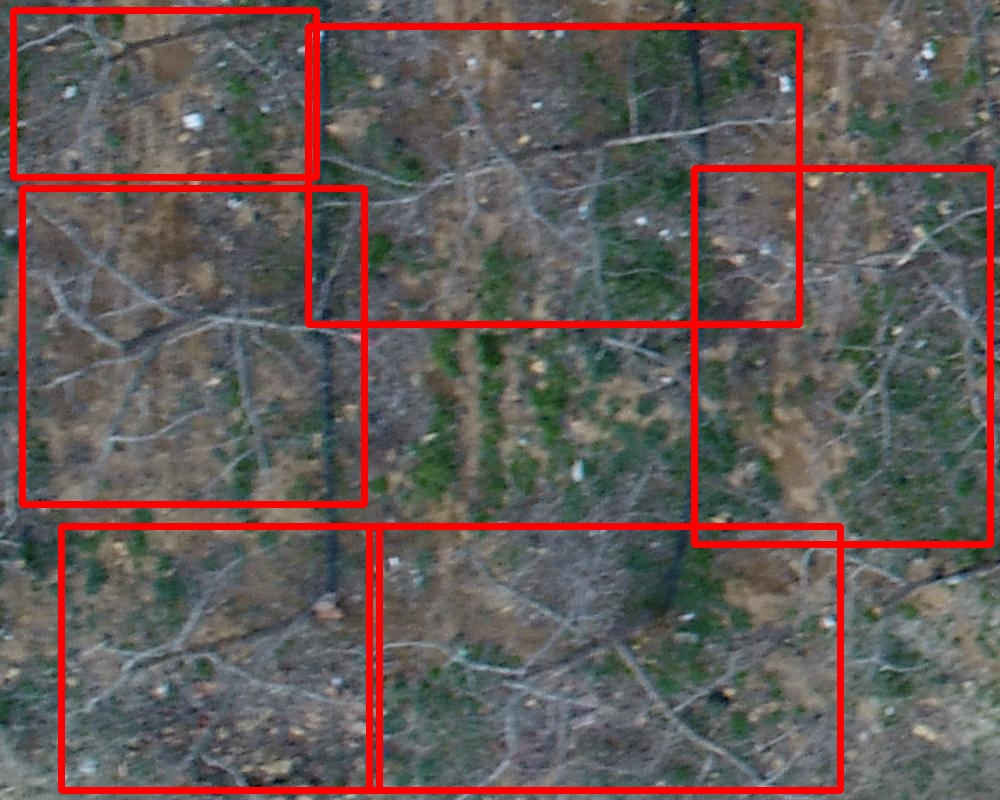apple: (308, 26, 799, 324), (369, 526, 840, 790), (694, 168, 990, 544), (22, 188, 364, 504), (61, 526, 379, 790), (13, 10, 316, 177)
